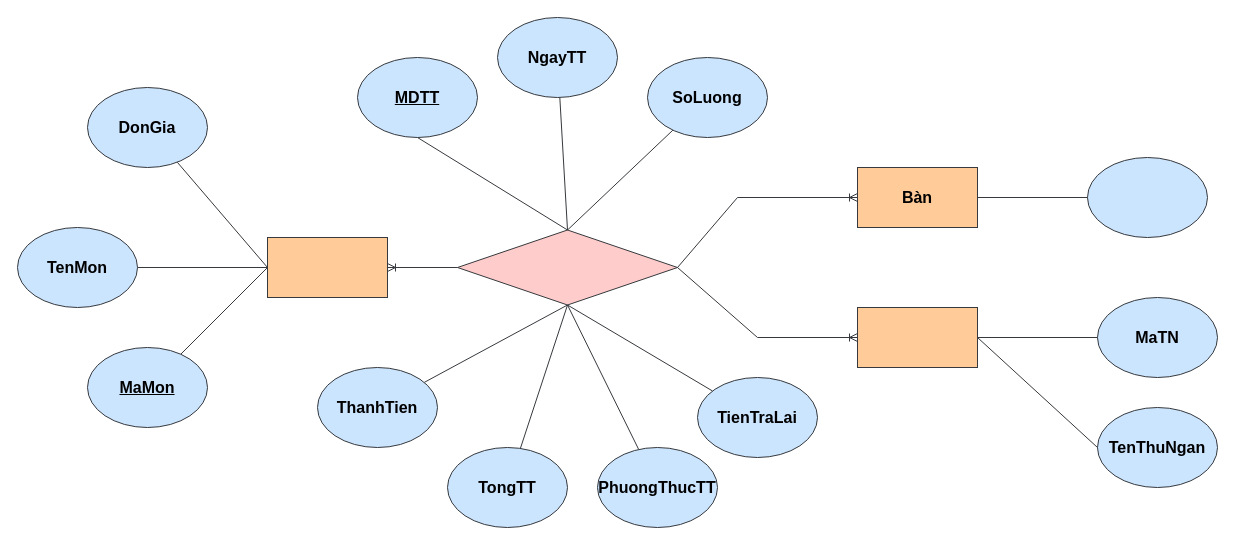
Some shapes in this 1235 by 545 pixel diagram are drawn without their labels. The box of each missing label's shape, as (x1, y1, x2, y2) in pixels:
Món Nước: (266, 236, 388, 298)
SoBan: (1086, 156, 1208, 238)
Thu Ngân: (856, 306, 978, 368)
Xuất: (456, 229, 678, 305)
